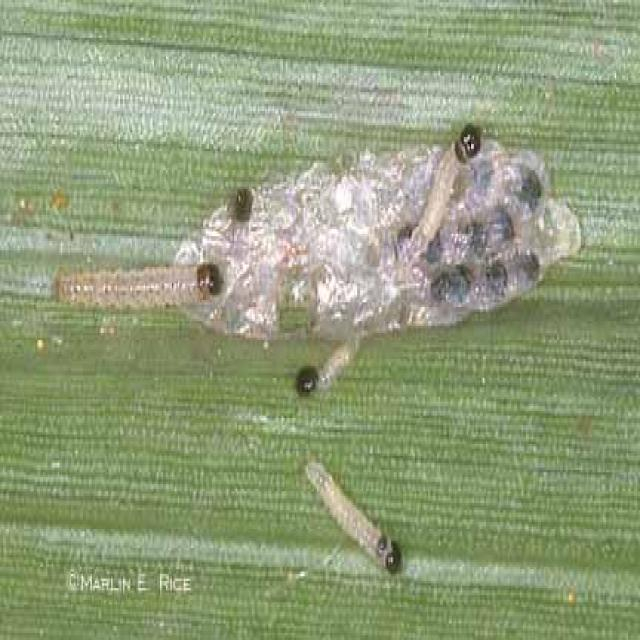cornborer-Larva-: (298, 458, 405, 582), (51, 250, 224, 324), (403, 116, 483, 268)
